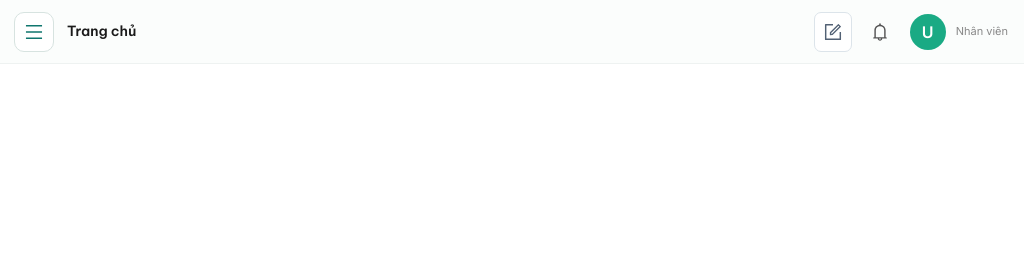
Test case: staff Header › shows an empty notification state and disables mark-all
Click the button named "Mở thông báo" at (880, 32), box [860, 12, 900, 52]
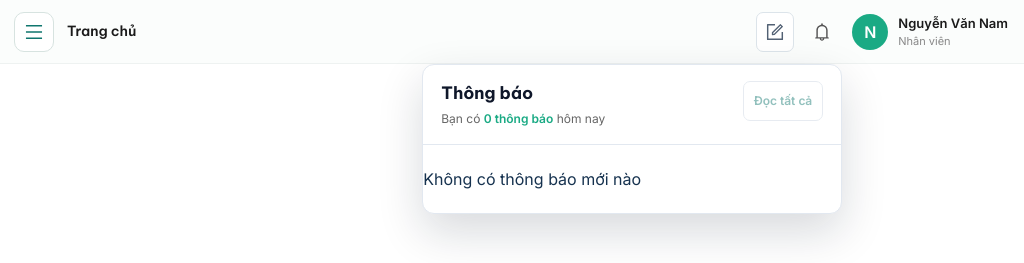
Now the text "Không có thông báo mới nào" is shown, box [423, 169, 641, 189]
Now the button "Đọc tất cả" is disabled, box [743, 80, 823, 120]
